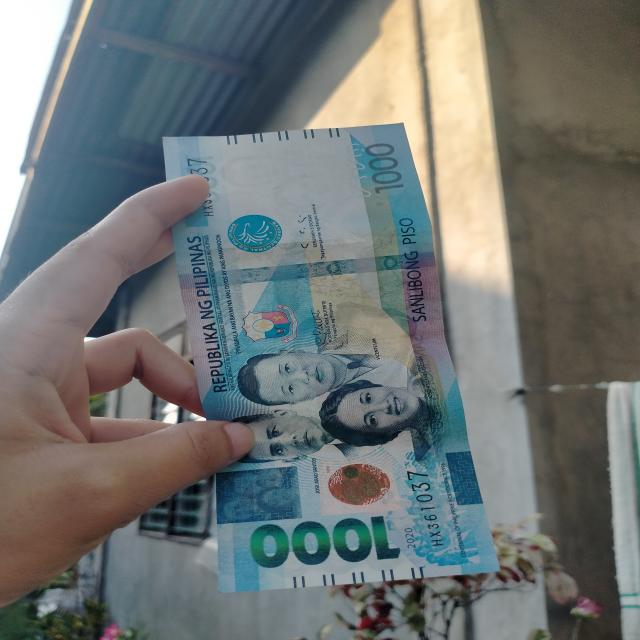concealed_value: (214, 466, 302, 523)
optically_variable_device: (319, 459, 398, 511)
security_thread: (176, 250, 437, 291)
see_through_mark: (344, 140, 373, 198)
serial_number: (401, 468, 448, 552)
value: (248, 513, 402, 567)
value_watermark: (286, 144, 341, 158)
watermark: (207, 156, 346, 223)
